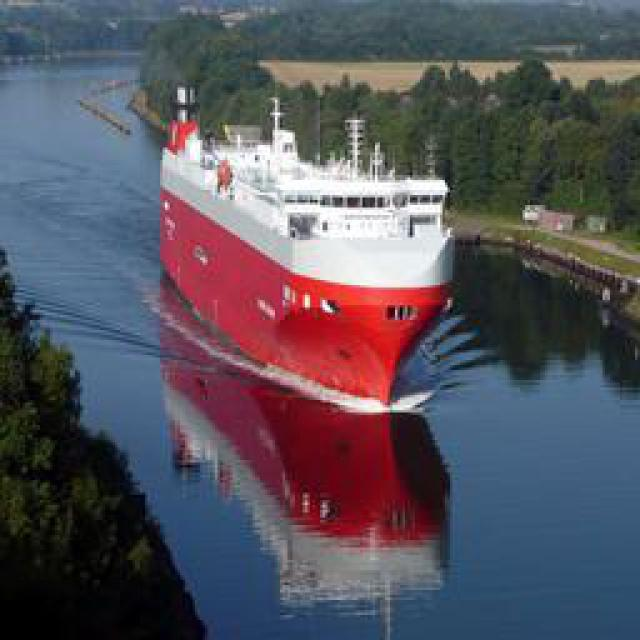Ship: (131, 73, 495, 419)
